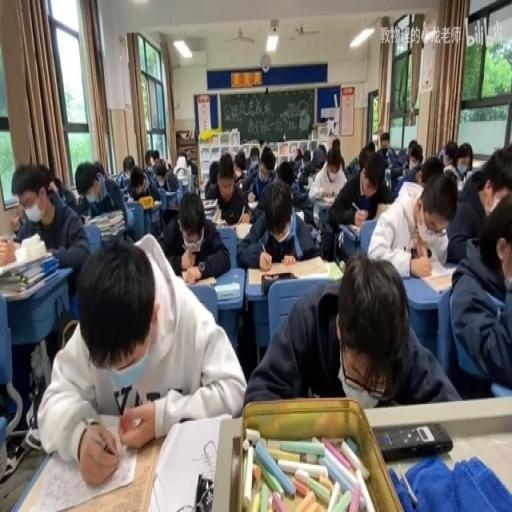calculator: (29, 432, 139, 510), (246, 256, 336, 286), (417, 258, 458, 292), (214, 282, 240, 300), (185, 272, 217, 286), (128, 199, 160, 212), (326, 260, 344, 280), (234, 222, 252, 240), (375, 202, 392, 218), (314, 196, 333, 209), (346, 222, 362, 237), (211, 205, 222, 222), (294, 208, 305, 222), (384, 166, 390, 190), (202, 199, 217, 208), (179, 175, 190, 186), (82, 213, 91, 225), (123, 194, 133, 204), (247, 201, 258, 209), (198, 189, 206, 199)
paper: (41, 231, 245, 482), (246, 256, 458, 407), (10, 160, 90, 312), (366, 166, 454, 274), (446, 146, 512, 268), (238, 175, 320, 266), (160, 188, 230, 278), (78, 158, 134, 243), (306, 144, 346, 232), (242, 145, 274, 202), (368, 134, 404, 179), (149, 158, 178, 193), (398, 138, 422, 179), (345, 141, 369, 176), (53, 178, 77, 212), (419, 153, 443, 185), (290, 175, 311, 209), (439, 141, 458, 169), (276, 160, 294, 188), (232, 148, 248, 179), (36, 162, 54, 188), (205, 158, 218, 193), (130, 168, 146, 196), (456, 142, 472, 169), (291, 148, 304, 176), (160, 206, 179, 225), (185, 155, 198, 182), (443, 165, 459, 185), (92, 159, 106, 178), (122, 154, 134, 176), (146, 148, 160, 165), (118, 172, 128, 191), (379, 135, 389, 148), (302, 150, 310, 164), (331, 138, 340, 149), (404, 149, 410, 165), (366, 141, 375, 151), (164, 158, 170, 169), (173, 199, 178, 209), (252, 158, 258, 166)
person: (374, 420, 452, 460), (194, 471, 214, 509)
